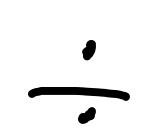div: (28, 40, 130, 125)
